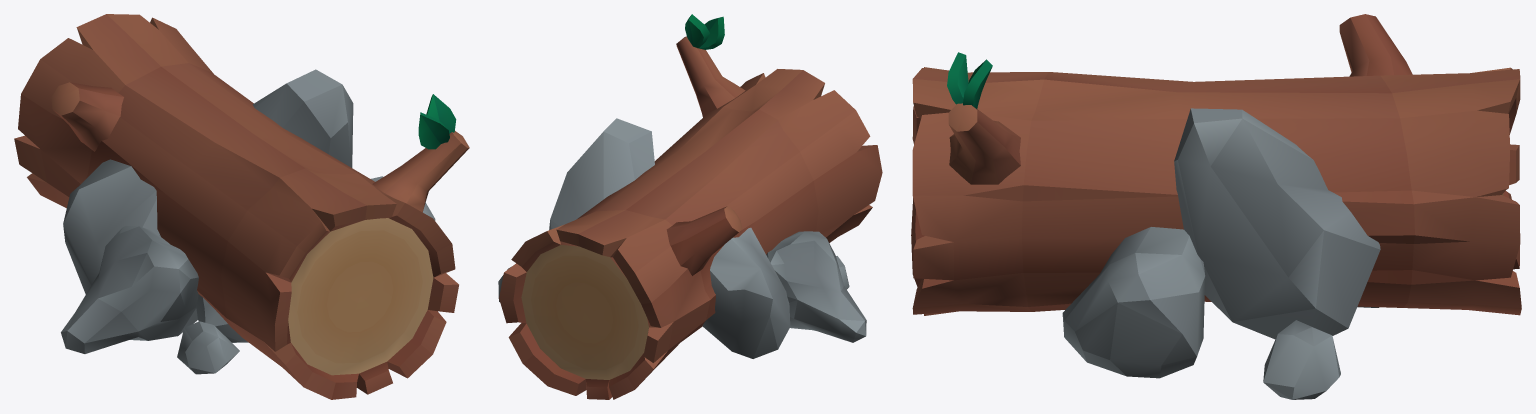
File: resources.glb
The picture shows the model from 3 angles, left to right: view 1: azimuth 30°, elevation 25°; view 2: azimuth 150°, elevation 25°; view 3: azimuth 270°, elevation 25°; orthographic projection. The views are drawn at different scales.
Parts seen in each view (by area): view 1: Wood_Log_A, Stone_Chunks_Small; view 2: Wood_Log_A, Stone_Chunks_Small; view 3: Wood_Log_A, Stone_Chunks_Small.
Part boxes in pixels (bbox=[...]): Wood_Log_A: bbox=[14, 14, 469, 399]; Stone_Chunks_Small: bbox=[61, 69, 435, 374]; Wood_Log_A: bbox=[499, 14, 882, 399]; Stone_Chunks_Small: bbox=[498, 118, 866, 358]; Wood_Log_A: bbox=[911, 14, 1521, 315]; Stone_Chunks_Small: bbox=[1062, 108, 1380, 399].
Size of the model in its own units: 1.12 by 0.7334 by 1.35.
